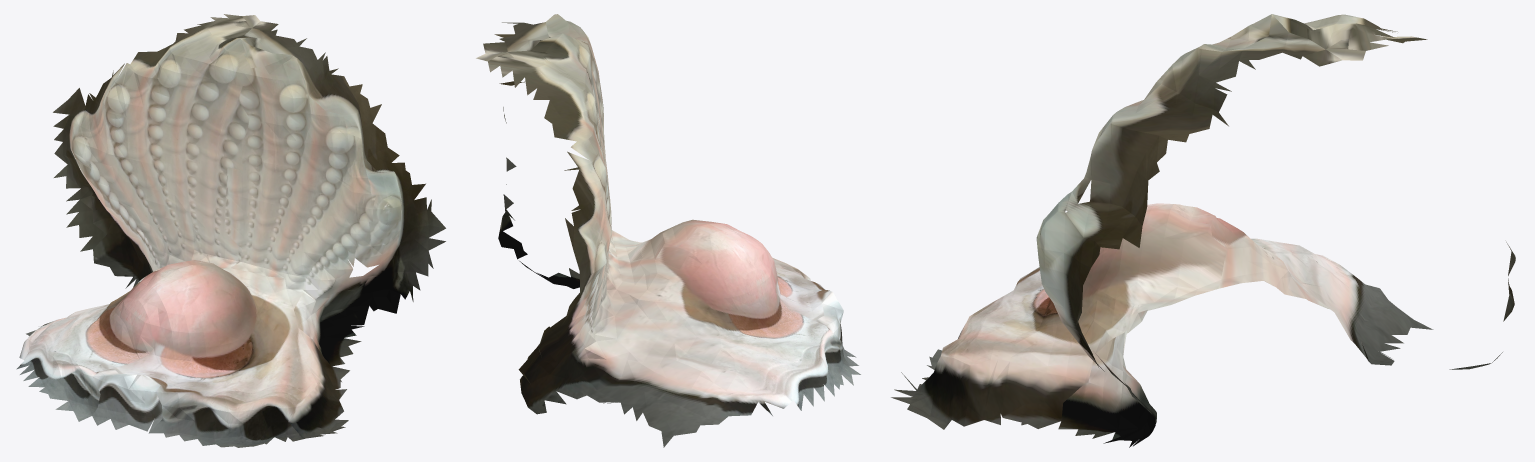
File: Untitled_Scan_16_26_22.gltf
The picture shows the model from 3 angles, left to right: view 1: azimuth 30°, elevation 25°; view 2: azimuth 150°, elevation 25°; view 3: azimuth 270°, elevation 25°; orthographic projection. The views are drawn at different scales.
Bounding box in the file's own units: 1.68 × 1.34 × 1.8.
Materials: 1 (1 with a texture image).
